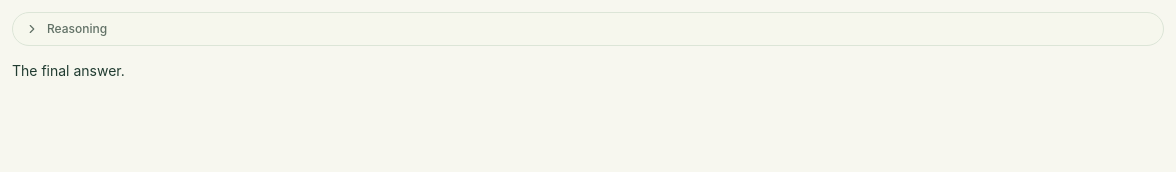
Test: streaming reasoning expands, then collapses as soon as text streaming finishes
The image size is (1176, 172).
Later steps or results of the test are not shown.
Expected: the text "The final answer." is shown, [12,62,125,79]
Click the button "Reasoning": (77, 28) [13,13,1163,45]
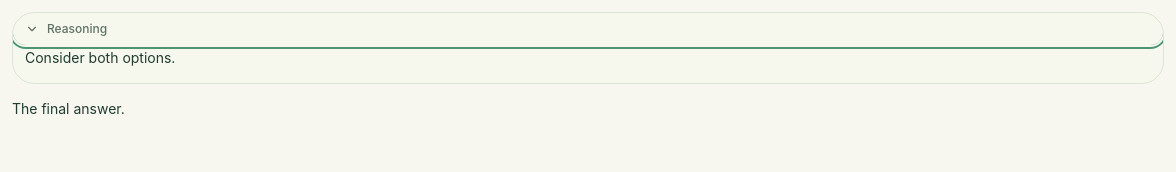
Now the element showing "Reasoning Consider both options." has attribute data-state="open", box [12,12,1164,84]
